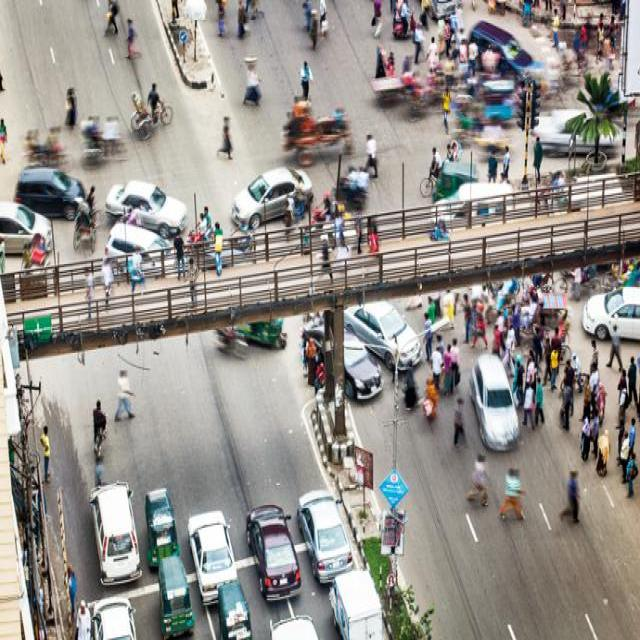bike: (212, 329, 251, 359), (91, 426, 103, 458)
vehicle: (86, 477, 142, 584), (229, 164, 314, 229), (468, 349, 519, 453), (244, 502, 301, 590), (299, 486, 349, 572), (328, 568, 382, 637), (104, 177, 190, 219), (186, 508, 238, 574), (468, 18, 529, 73), (583, 287, 638, 346), (158, 554, 195, 637), (103, 221, 167, 268), (16, 167, 80, 214), (374, 299, 421, 362), (79, 114, 131, 170), (344, 334, 383, 400), (145, 484, 182, 553), (131, 88, 174, 141), (91, 590, 138, 637), (527, 307, 574, 353), (218, 580, 253, 638), (1, 201, 52, 237), (21, 130, 74, 164), (402, 74, 440, 121), (70, 200, 100, 252), (253, 315, 289, 349), (369, 75, 405, 109), (443, 157, 479, 181), (560, 270, 601, 290), (451, 98, 472, 135), (30, 235, 48, 267), (540, 291, 568, 311), (446, 137, 462, 160)
